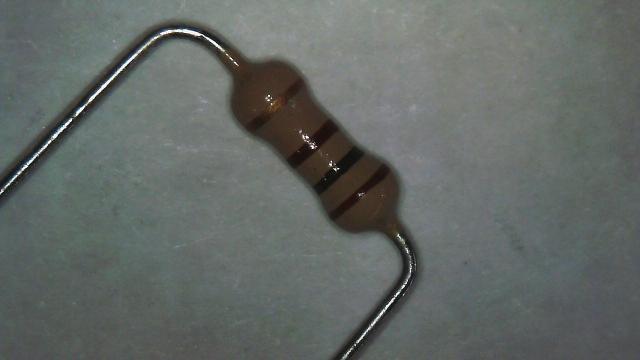black: (314, 146, 365, 196)
brown: (328, 165, 386, 215), (286, 117, 339, 168)
gold: (246, 78, 306, 134)
resistor: (181, 27, 428, 253)
